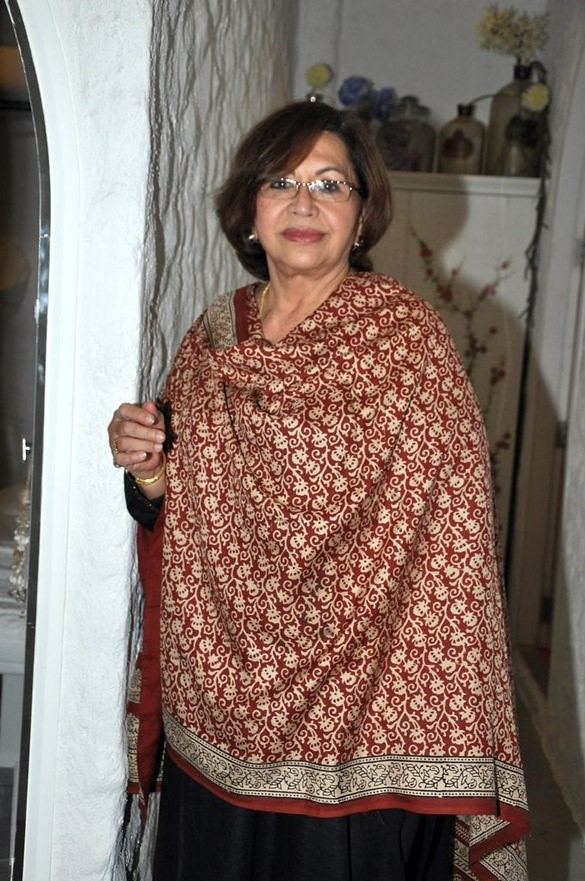face_no_mask: (244, 113, 367, 278)
